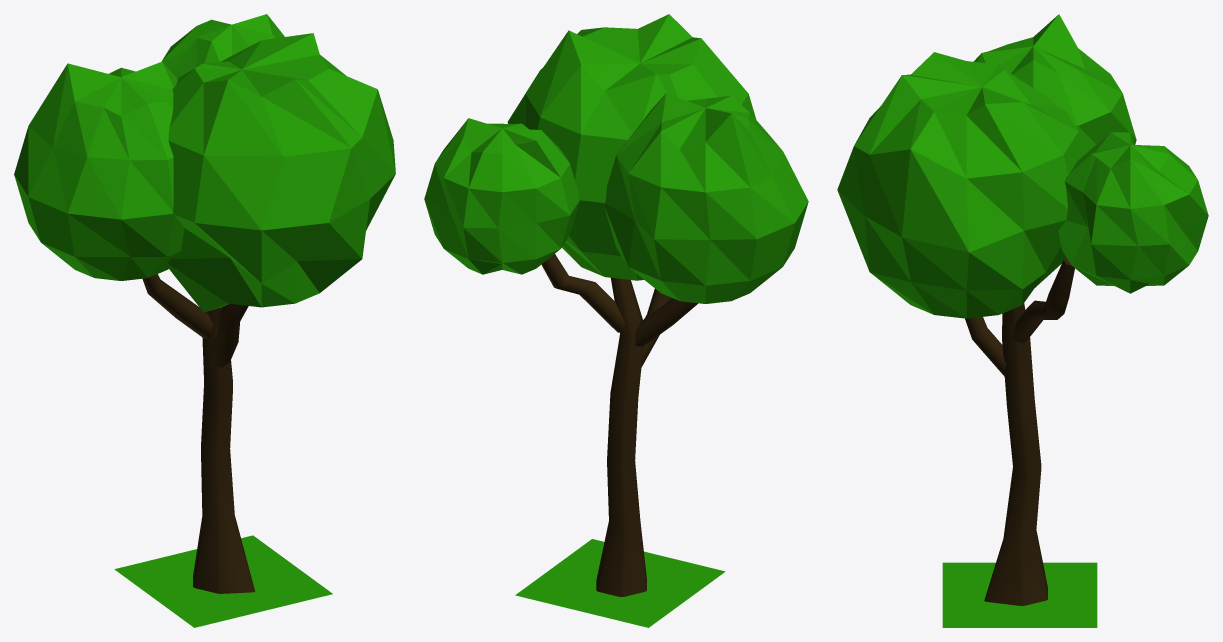
The model's file is Tree.fbx.
The picture shows the model from 3 angles, left to right: view 1: azimuth 30°, elevation 25°; view 2: azimuth 150°, elevation 25°; view 3: azimuth 270°, elevation 25°; orthographic projection. The views are drawn at different scales.
Visible parts, largest first — view 1: Object002; view 2: Object002; view 3: Object002.
Part boxes in pixels (bbox=[...]): Object002: bbox=[14, 14, 395, 627]; Object002: bbox=[424, 14, 808, 627]; Object002: bbox=[837, 14, 1208, 627].
Bounding box in the file's own units: 143 × 225 × 144.
